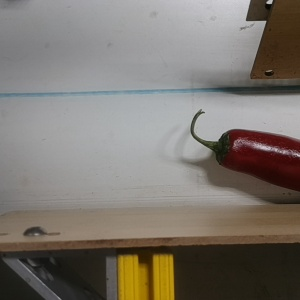Cut Point: (212, 127, 247, 169)
